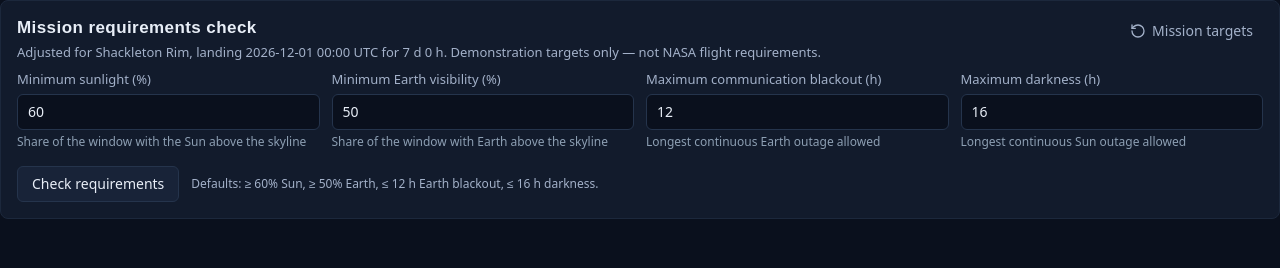
Scenario: RequirementTuner › blocks invalid thresholds before sending a request
Replace the text in the number field labelled "Minimum sunlight (%)" with "140" at (168, 112), box [17,94,320,130]
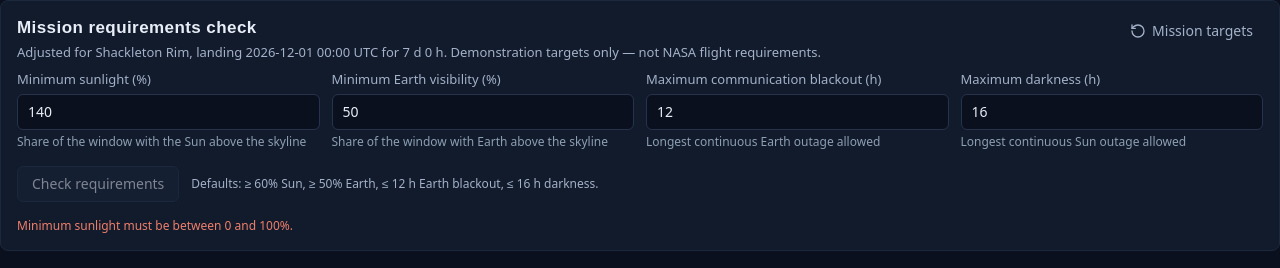
Check: the text "Minimum sunlight must be between 0 and 100%." is shown, box [17,216,293,234]
Check: the button "Check requirements" is disabled, box [17,166,179,202]
